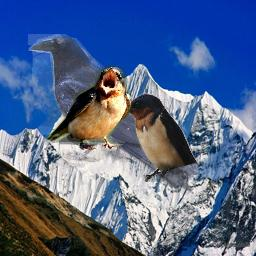Crow: (28, 34, 199, 196)
Swallow: (45, 66, 132, 150), (121, 93, 198, 182)
